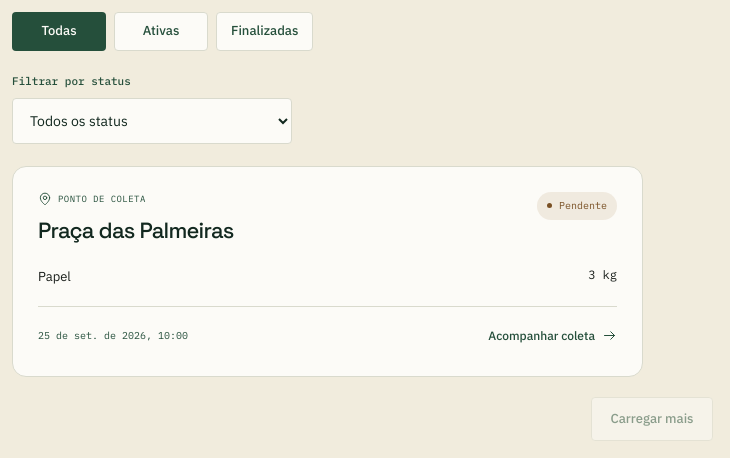
Test: CollectionHistoryList › separates active and finished collections on the server
The width and height of the screenshot is (730, 458).
Check: the heading "Praça das Palmeiras" is shown, box [38,214,234,246]
Click the button "Finalizadas" at (265, 32), box [216,12,313,51]
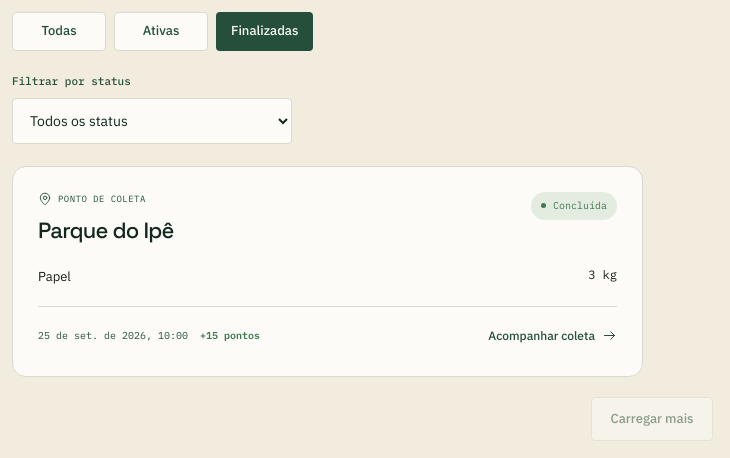
Check: the heading "Parque do Ipê" is shown, box [38,214,174,246]
